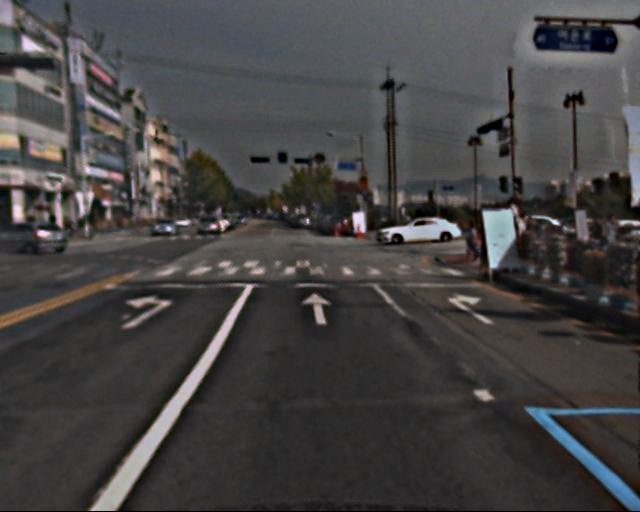person: (590, 217, 624, 263), (463, 220, 483, 269)
